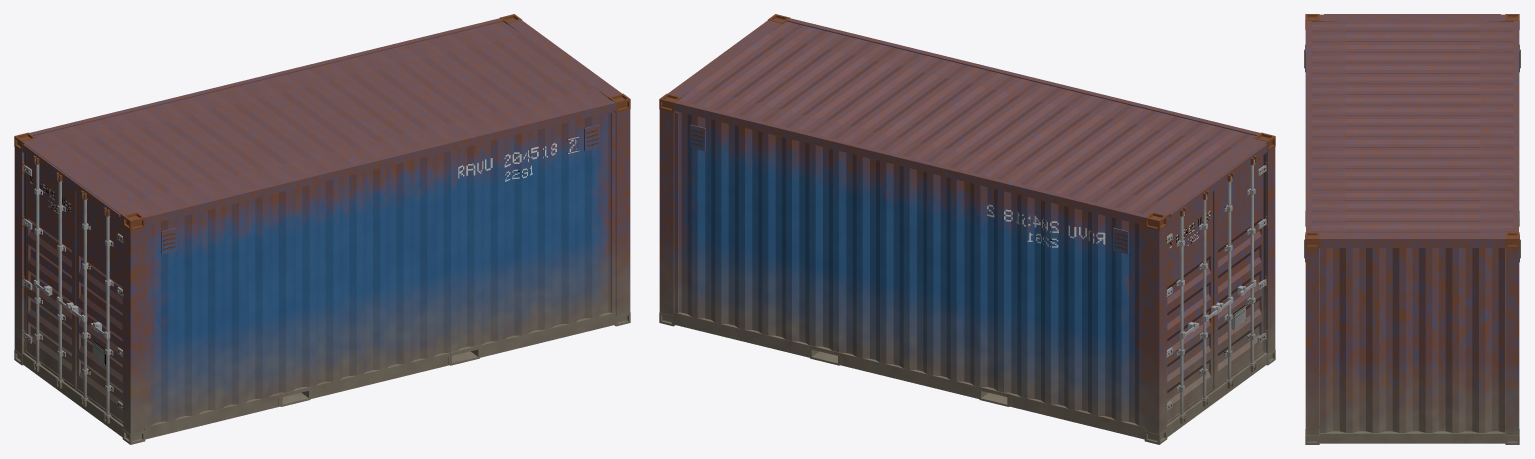
Rendered from Container20.fbx.
3 views of the same model, side by side, from view 1: azimuth 30°, elevation 25°; view 2: azimuth 150°, elevation 25°; view 3: azimuth 270°, elevation 25° (orthographic). The views are drawn at different scales.
Parts seen in each view (by area): view 1: Container20; view 2: Container20; view 3: Container20.
Part boxes in pixels (x1,y1,x2,y2): Container20: [14, 14, 630, 444]; Container20: [659, 14, 1275, 444]; Container20: [1304, 14, 1520, 444].
Size of the model in its own units: 6.1 by 2.59 by 2.46.
1 material, 1 textured.
